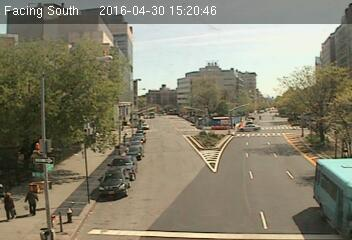neg: (327, 188, 351, 229), (95, 43, 114, 68), (244, 113, 260, 134), (201, 148, 213, 164)
pos: (19, 189, 39, 216)
